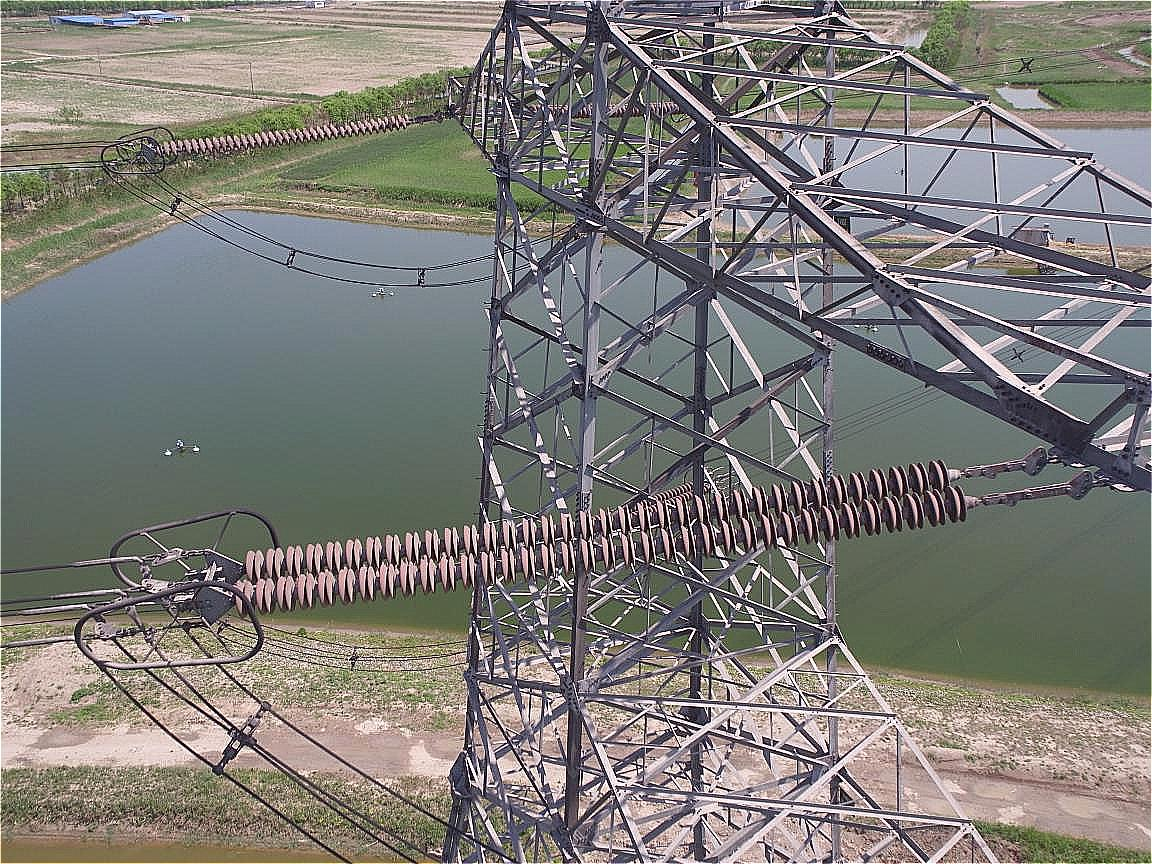insultor1: (151, 105, 416, 166)
insultor2: (223, 449, 986, 631)
